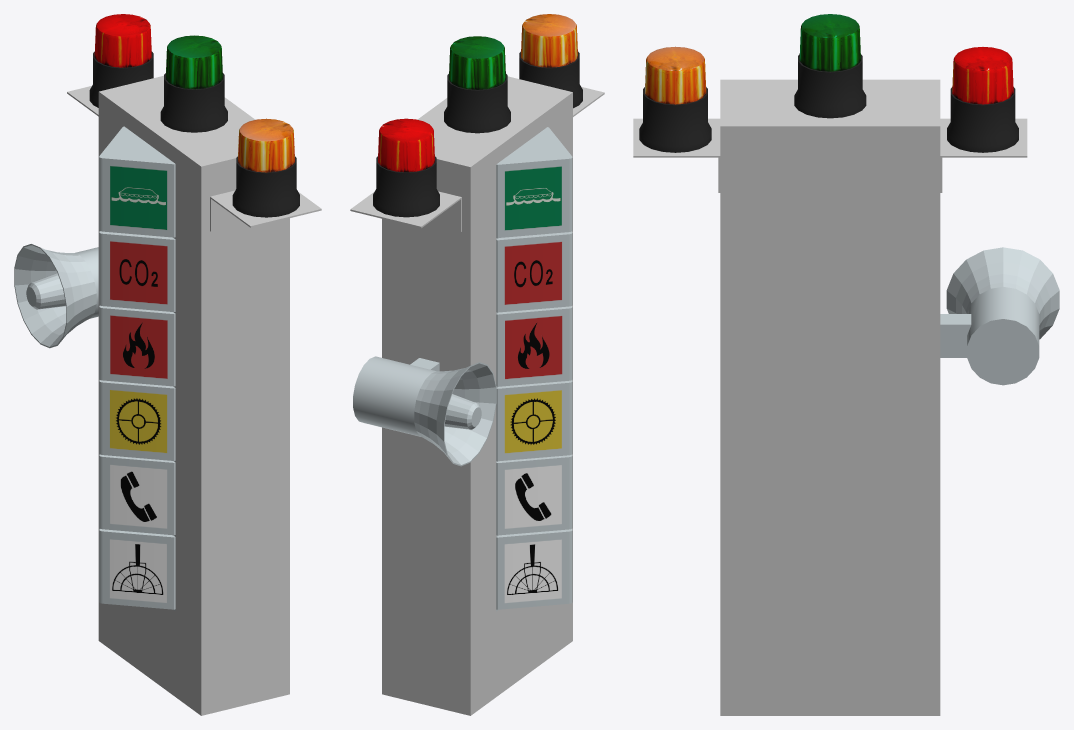
File: signalColumn.fbx
3 renders of one model, left to right at view 1: azimuth 30°, elevation 25°; view 2: azimuth 150°, elevation 25°; view 3: azimuth 270°, elevation 25°, orthographic. The views are drawn at different scales.
Parts seen in each view (by area): view 1: signalColumn_, alarmColumn_horn, alarmColumn_signal001, alarmColumn_signal003, alarmColumn_signal002; view 2: signalColumn_, alarmColumn_horn, alarmColumn_signal002, alarmColumn_signal003, alarmColumn_signal001; view 3: signalColumn_, alarmColumn_horn, alarmColumn_signal002, alarmColumn_signal001, alarmColumn_signal003.
Part boxes in pixels (<box>): signalColumn_: <box>67,75,321,715</box>; alarmColumn_horn: <box>14,244,98,348</box>; alarmColumn_signal001: <box>232,118,299,217</box>; alarmColumn_signal003: <box>160,35,227,132</box>; alarmColumn_signal002: <box>89,14,153,107</box>; signalColumn_: <box>350,76,604,715</box>; alarmColumn_horn: <box>353,356,496,466</box>; alarmColumn_signal002: <box>373,118,439,217</box>; alarmColumn_signal003: <box>444,36,510,133</box>; alarmColumn_signal001: <box>519,14,582,108</box>; signalColumn_: <box>633,79,1027,715</box>; alarmColumn_horn: <box>940,247,1059,385</box>; alarmColumn_signal002: <box>947,47,1018,152</box>; alarmColumn_signal001: <box>639,46,711,152</box>; alarmColumn_signal003: <box>794,14,866,118</box>.
Size of the model in its own units: 23.5 by 103 by 58.13.
Materials: 2 (1 with a texture image).
